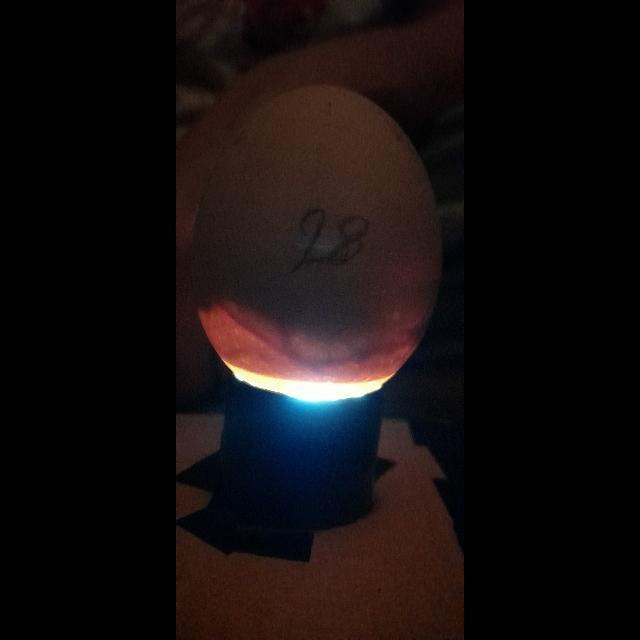Fertile: (199, 80, 435, 403)
